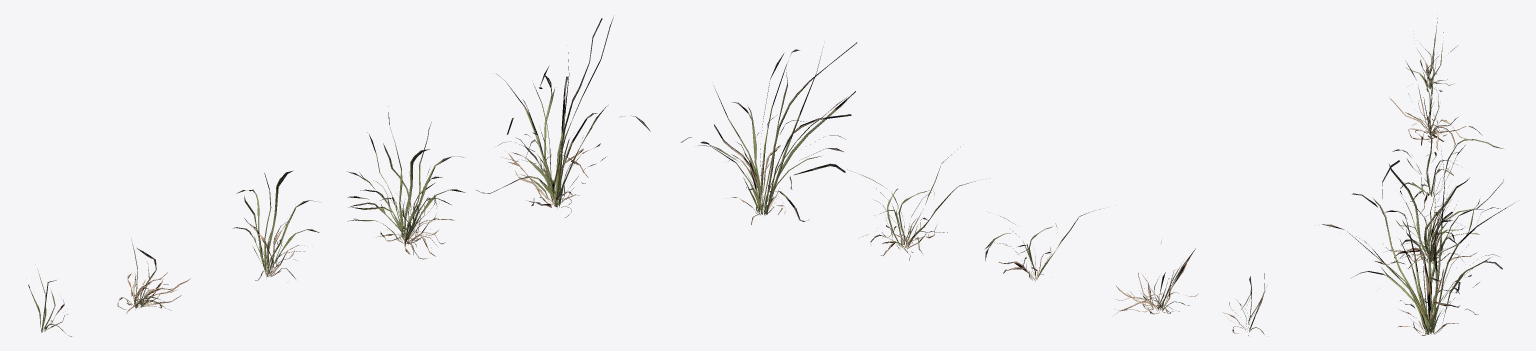
Rendered from grass_medium_02.glb.
3 views of the same model, side by side, from view 1: azimuth 30°, elevation 25°; view 2: azimuth 150°, elevation 25°; view 3: azimuth 270°, elevation 25° (orthographic). The views are drawn at different scales.
Bounding box in the file's own units: 1.31 × 0.4053 × 0.4318.
1 material, 1 textured.
